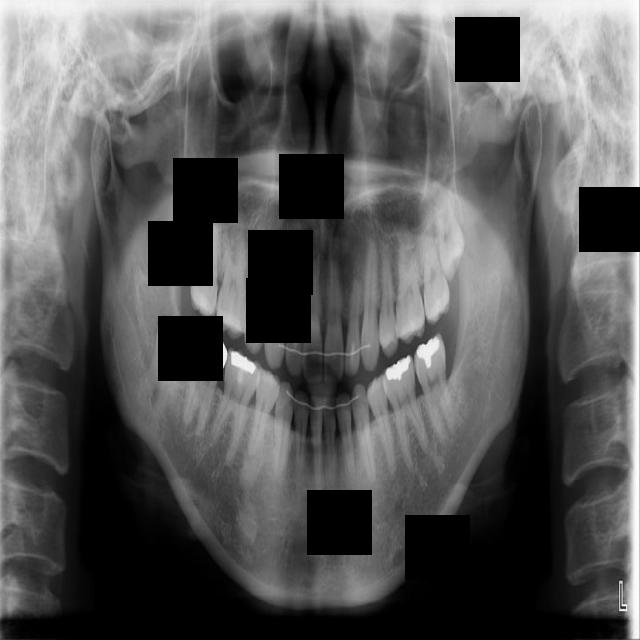3M ESPE Implant: (161, 155, 236, 262)
52: (209, 343, 272, 404), (179, 324, 237, 383), (375, 354, 429, 410), (406, 332, 457, 391)
73: (588, 550, 592, 560)
BioHorizons Implant: (419, 194, 450, 325)
BioLife Implant: (428, 172, 470, 282)
Blue Sky Bio Implant: (410, 332, 459, 443)
Caries: (185, 196, 236, 325)
Implant: (181, 325, 230, 439)
Keystone Dental Implant: (134, 313, 200, 427)
